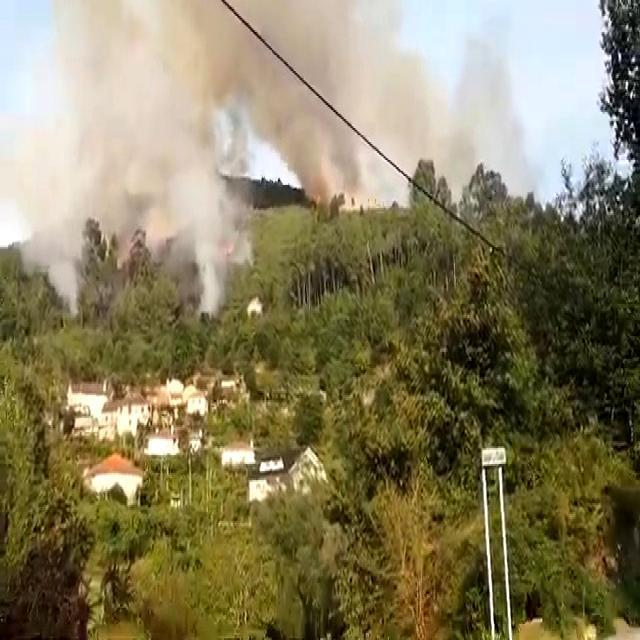Smoke: (0, 5, 262, 307), (240, 0, 452, 203)
